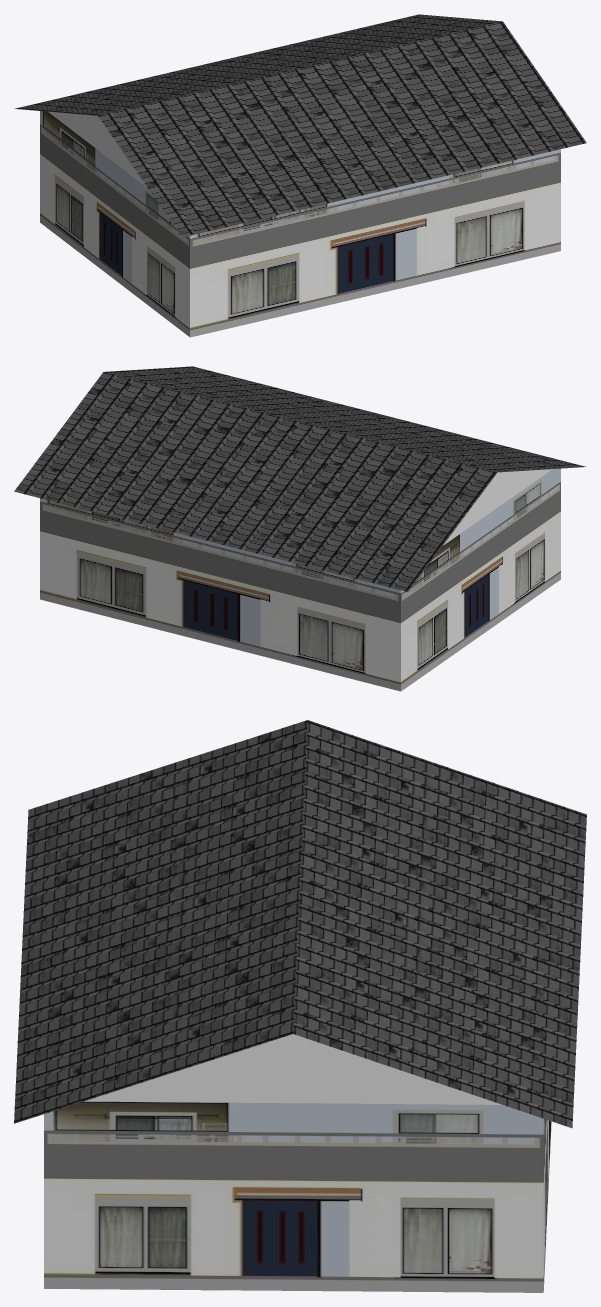
The picture shows the model from 3 angles, top to bottom: view 1: azimuth 30°, elevation 25°; view 2: azimuth 150°, elevation 25°; view 3: azimuth 270°, elevation 25°; orthographic projection. The views are drawn at different scales.
Visible parts, largest first — view 1: CityEngineMaterial_8_m, CityEngineMaterial_7_m, CityEngineMaterial_3_m; view 2: CityEngineMaterial_8_m, CityEngineMaterial_7_m, CityEngineMaterial_3_m; view 3: CityEngineMaterial_8_m, CityEngineMaterial_7_m, CityEngineMaterial_3_m.
Part boxes in pixels (x1,y1,x2,y2): CityEngineMaterial_8_m: (14,14,586,237); CityEngineMaterial_7_m: (40,111,560,337); CityEngineMaterial_3_m: (48,111,147,187); CityEngineMaterial_8_m: (14,366,586,591); CityEngineMaterial_7_m: (40,468,560,691); CityEngineMaterial_3_m: (443,469,552,545); CityEngineMaterial_8_m: (14,720,586,1128); CityEngineMaterial_7_m: (44,1101,551,1292); CityEngineMaterial_3_m: (84,1034,502,1104).
Bounding box in the file's own units: 24.12 × 9.53 × 18.33.
